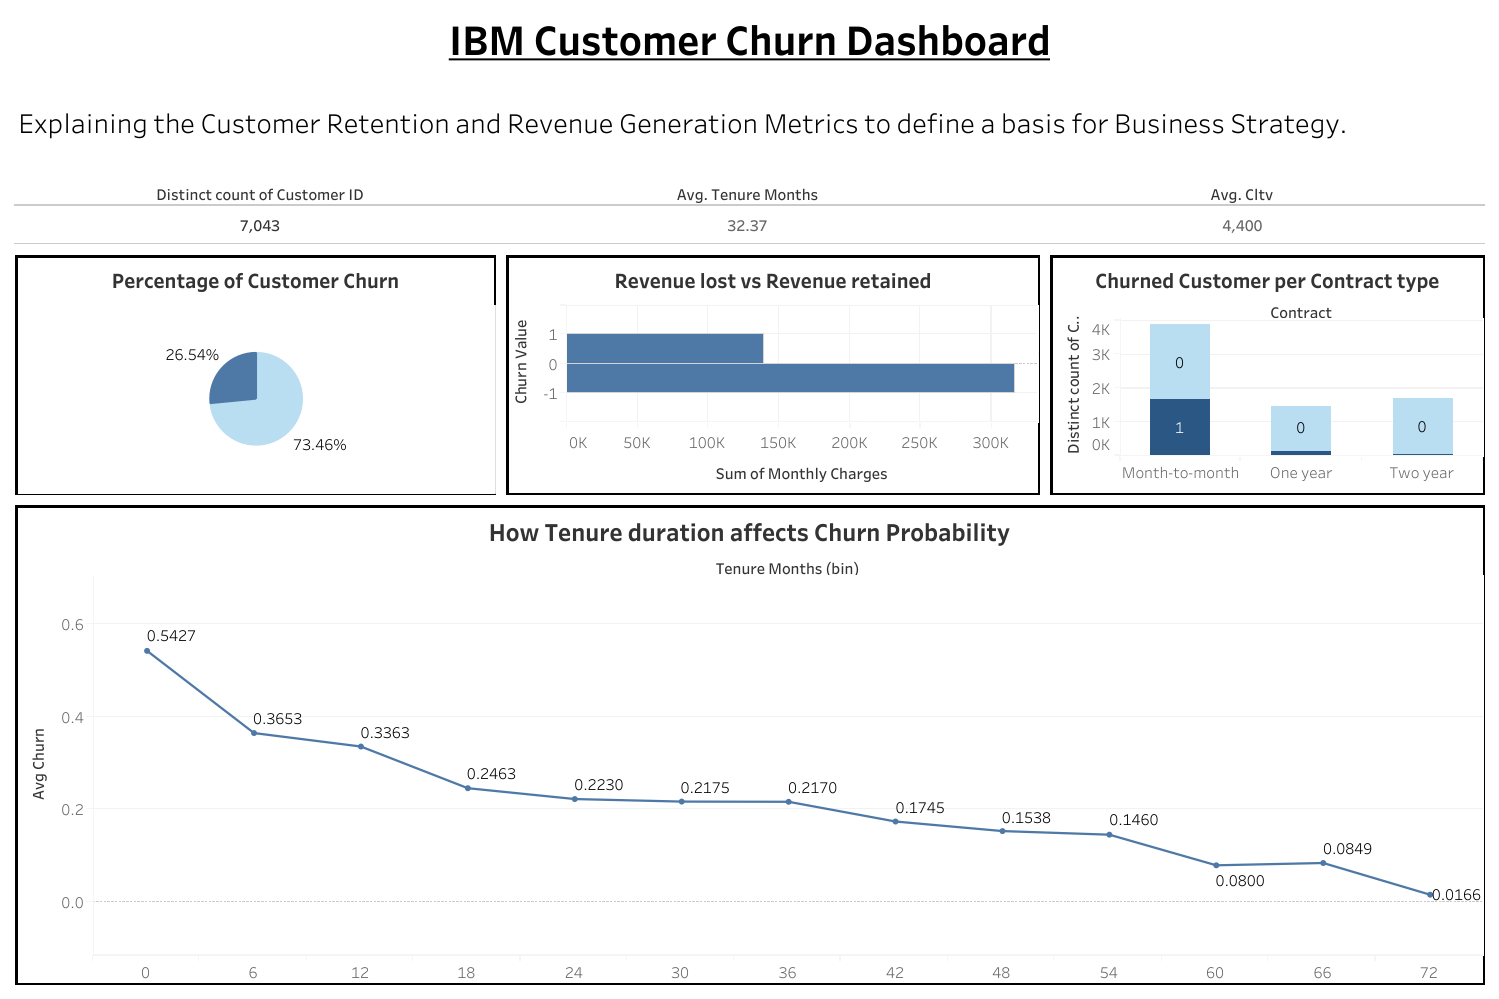

What the dashboard file says about the page in this screenshot:
{"tool":"tableau","page":{"name":"Dashboard 1","canvas":[1200,800],"ordinal":0},"visuals":[{"type":"text","box":[8,8,1184,46]},{"type":"text","box":[8,54,1184,86]},{"type":"worksheet","title":"Sheet 5","mark":"Polygon","rows":["CustomerID","Tenure Months","CLTV"],"box":[8,140,1184,60]},{"type":"worksheet","title":"Sheet 1","mark":"Pie","box":[8,200,393.1,200]},{"type":"worksheet","title":"Sheet 2","mark":"Bar","rows":["Churn Value"],"cols":["Calculation_1795802727534593"],"box":[401.1,200,434.9,200]},{"type":"worksheet","title":"Sheet 3","mark":"Automatic","rows":["CustomerID"],"cols":["Contract"],"box":[836,200,356,200]},{"type":"worksheet","title":"Sheet 4","mark":"Line","rows":["Calculation_0773257145450496"],"cols":["Tenure Months (bin)"],"box":[8,400,1184,392]}]}

Visuals, with their boxes in screenshot pixels (x1, y1, x2, y2), scaled from the page's 1200x800 canvas onto the 1499x999 screenshot:
text: 10,10,1489,67
text: 10,67,1489,175
"Sheet 5" worksheet (Polygon marks): 10,175,1489,250
"Sheet 1" worksheet (Pie marks): 10,250,501,500
"Sheet 2" worksheet (Bar marks): 501,250,1044,500
"Sheet 3" worksheet: 1044,250,1489,500
"Sheet 4" worksheet (Line marks): 10,500,1489,989
